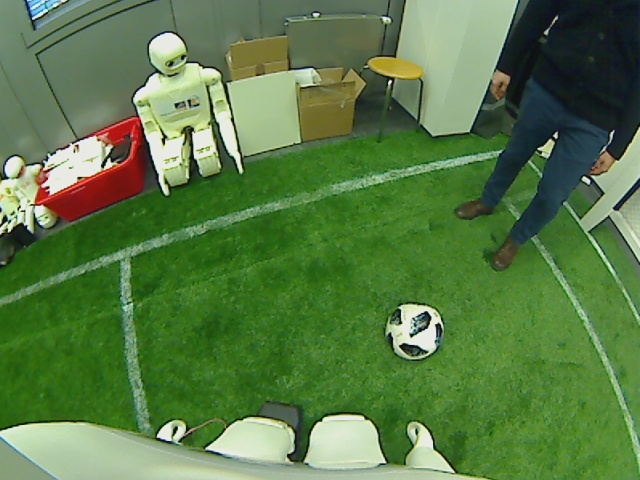ball: (383, 300, 444, 363)
